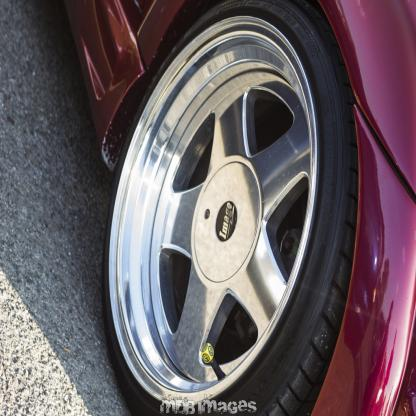Car: (64, 1, 416, 416)
